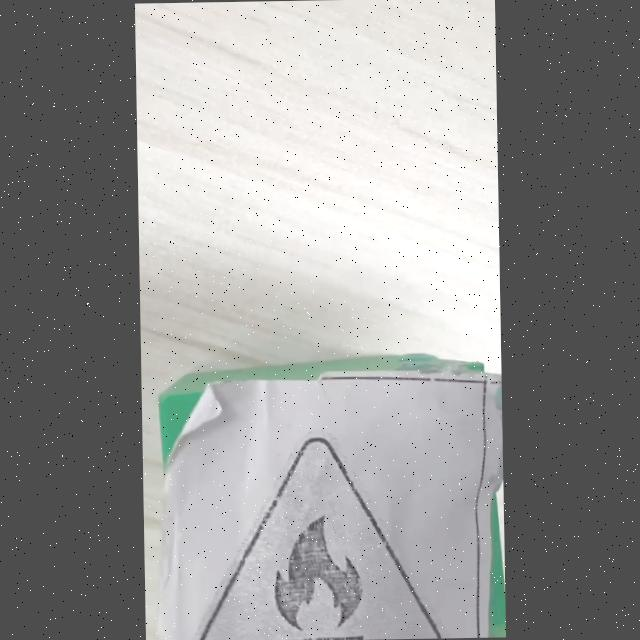Fire: (198, 436, 441, 640)
